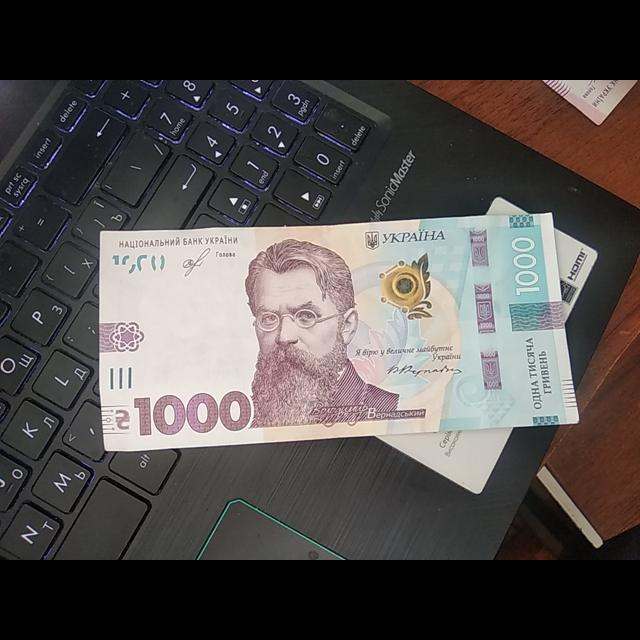1000uah: (96, 228, 578, 438)
